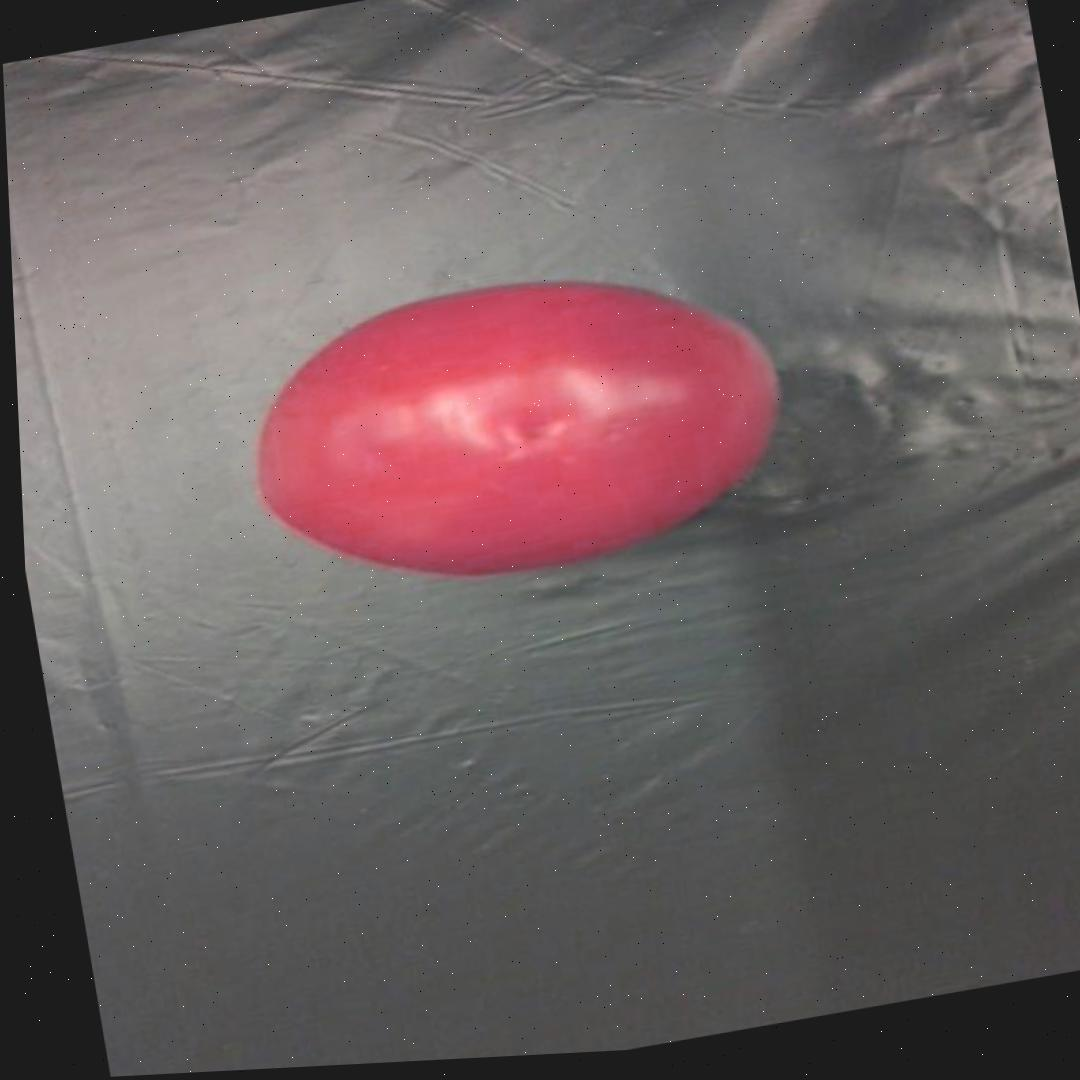matang: (232, 236, 804, 614)
